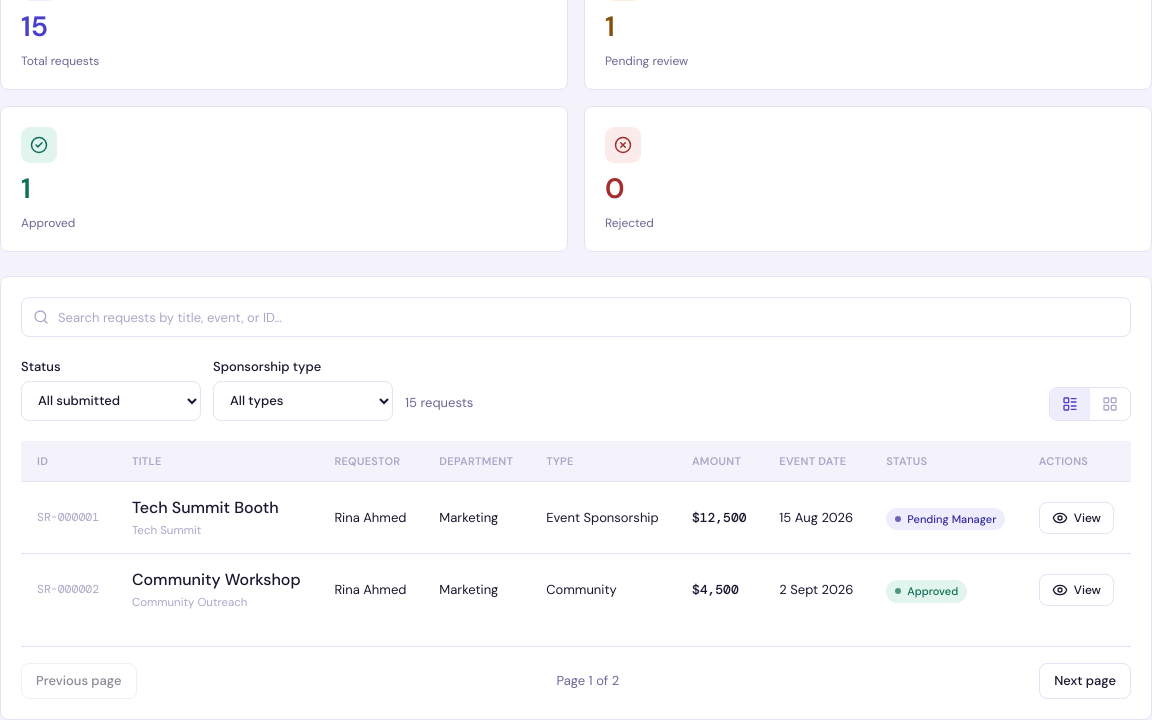
it: AdminRequestsPage › filters submitted requests and paginates without showing drafts
(page scrolled)
Expected: the link "Tech Summit Booth" is shown, top-left (132, 496), bottom-right (302, 520)
Expected: the link "Community Workshop" is shown, top-left (132, 568), bottom-right (302, 592)
Click the button "Next page": (1085, 681) top-left (1039, 663), bottom-right (1131, 699)
(page scrolled)
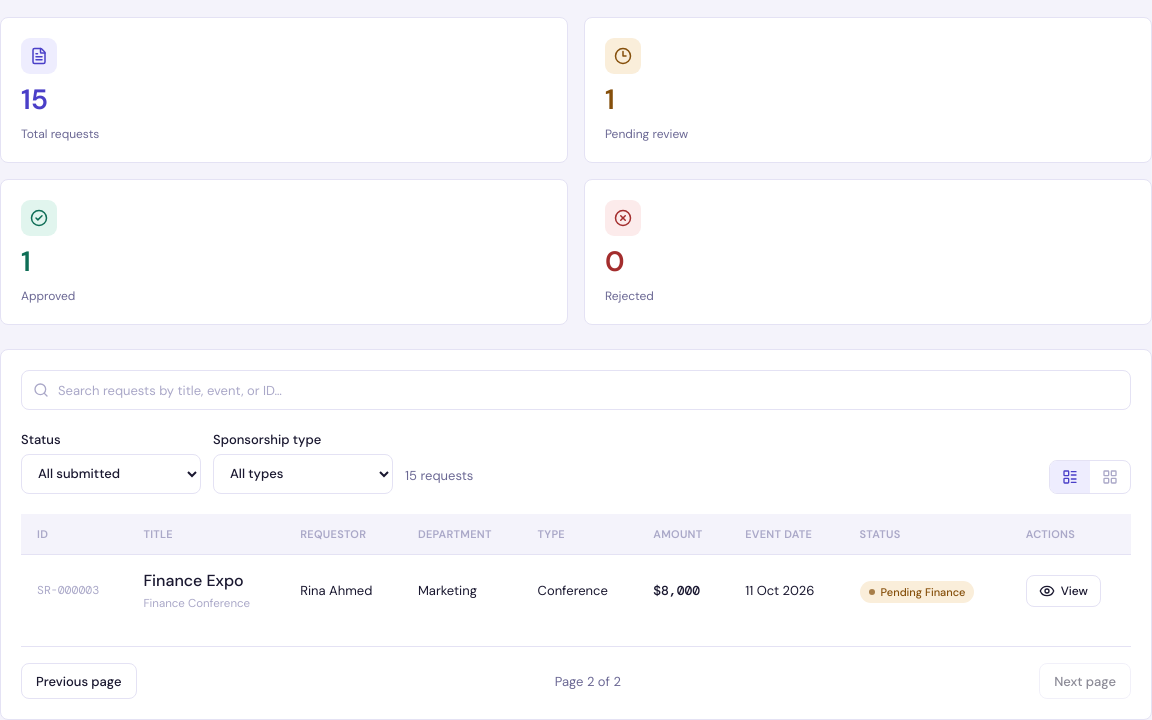
Result: the link "Finance Expo" is shown at top-left (143, 570), bottom-right (244, 591)
Select "Approved" in the dropdown labelled "Status": (111, 474) top-left (21, 454), bottom-right (201, 494)
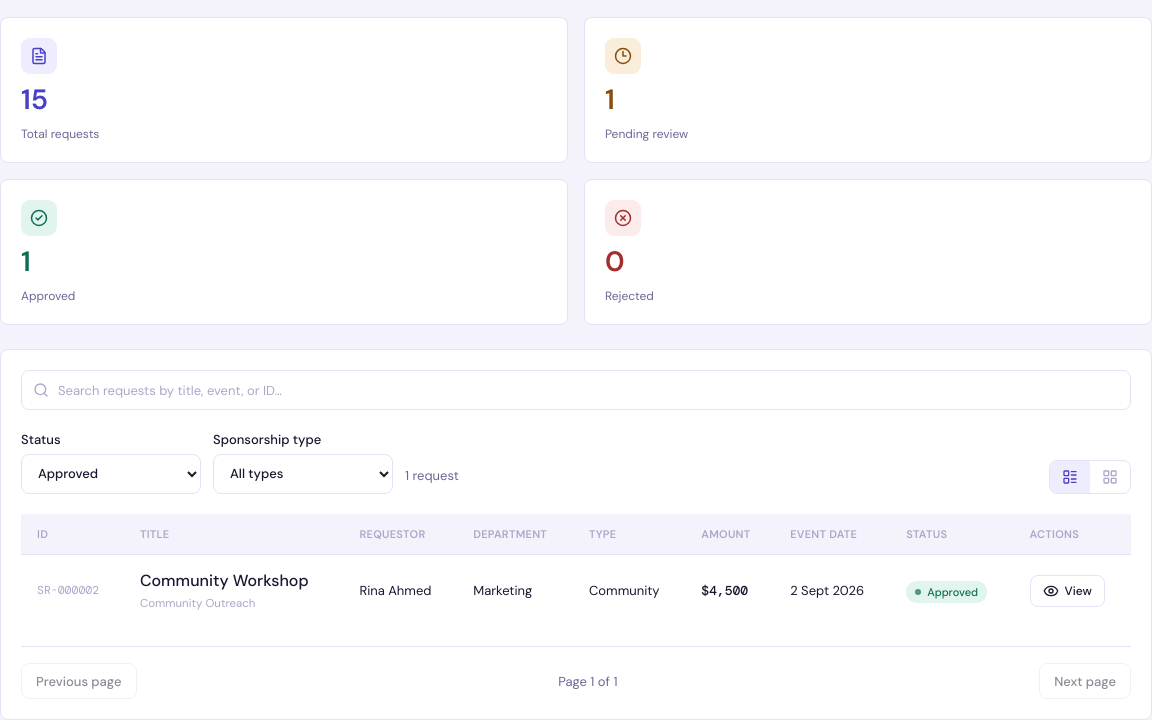
Result: the link "Community Workshop" is shown at top-left (140, 569), bottom-right (327, 593)
